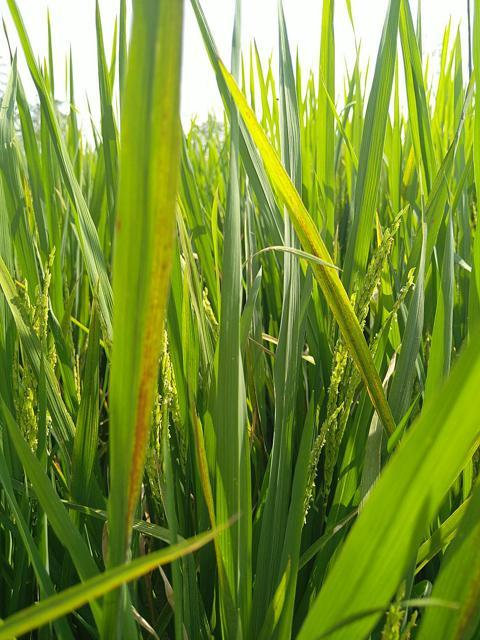Leaf Streak: (215, 53, 396, 437), (127, 0, 179, 554), (190, 405, 216, 526)
